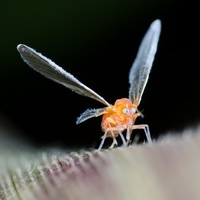insect: (17, 19, 160, 149)
